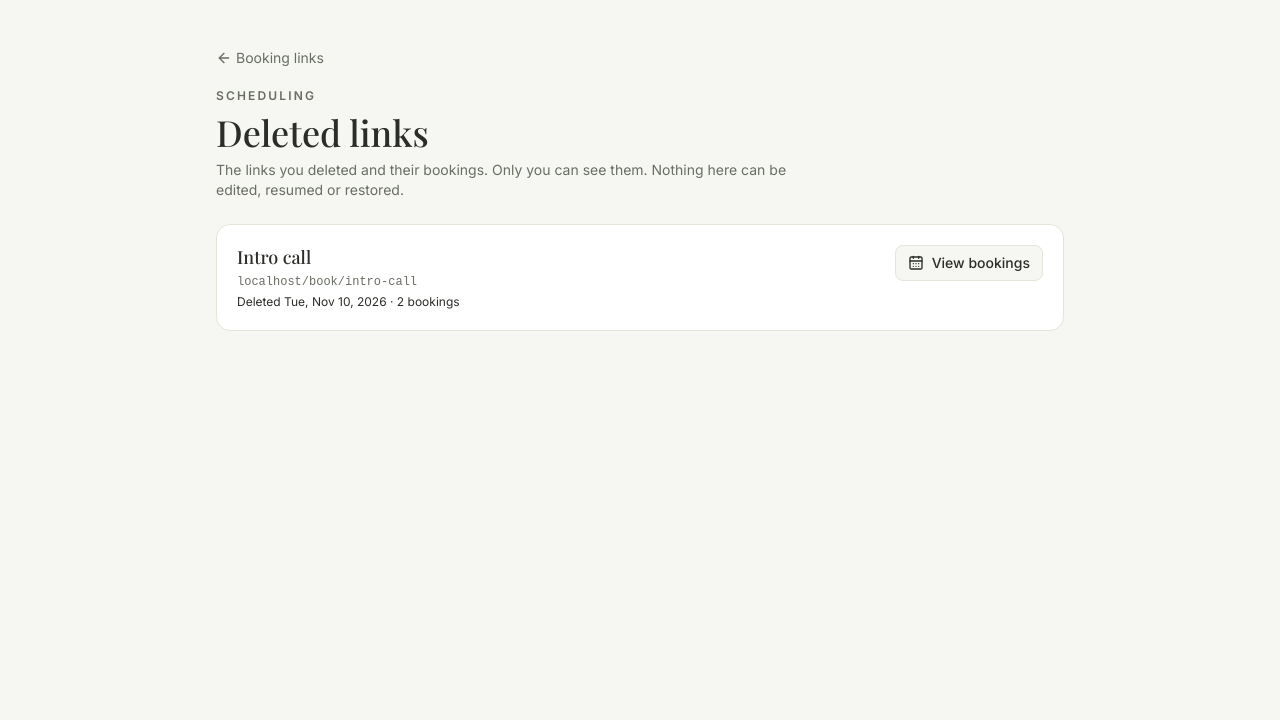
Scenario: PAC-40 archive page › detail 404 (no longer in the archive) says so and refreshes the list
Click the button with test id "archive-view-bookings".
click(969, 263)  # box [895,245,1043,281]
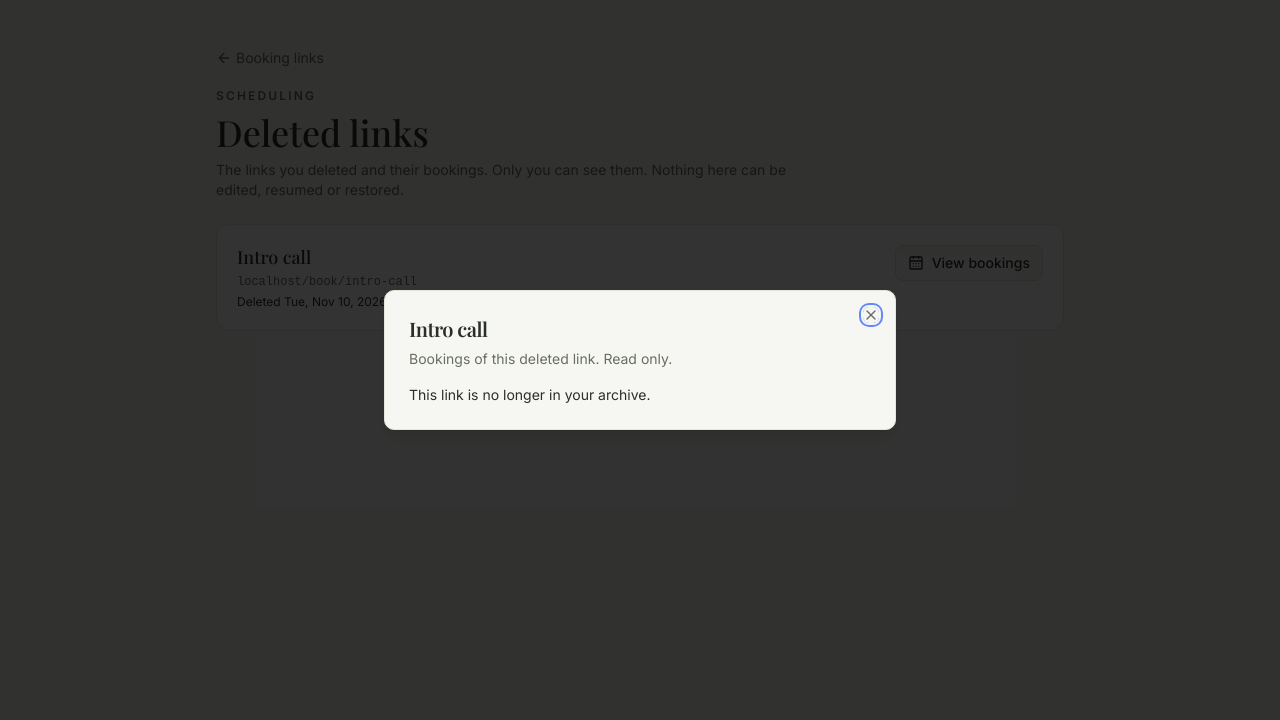
Result: the message with test id "archive-detail-not-found" reads "This link is no longer in your archive." at [409,386,650,403]
